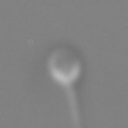normal: (58, 85, 89, 127)
